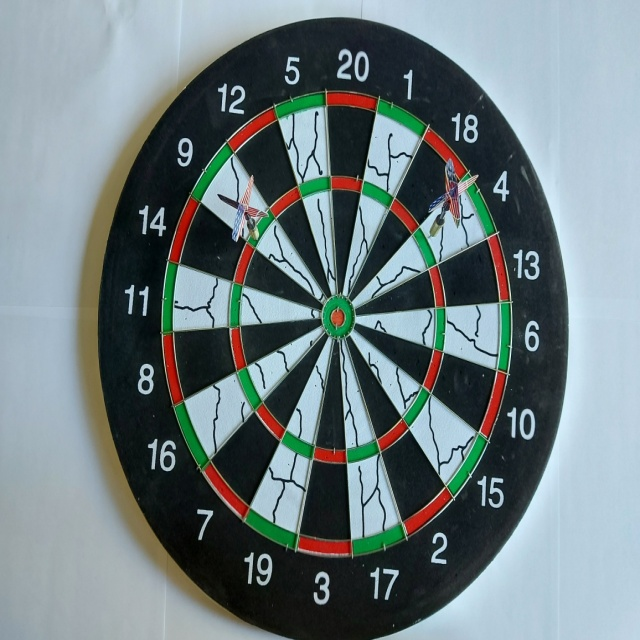Dart: (424, 156, 481, 245), (211, 171, 272, 253)
